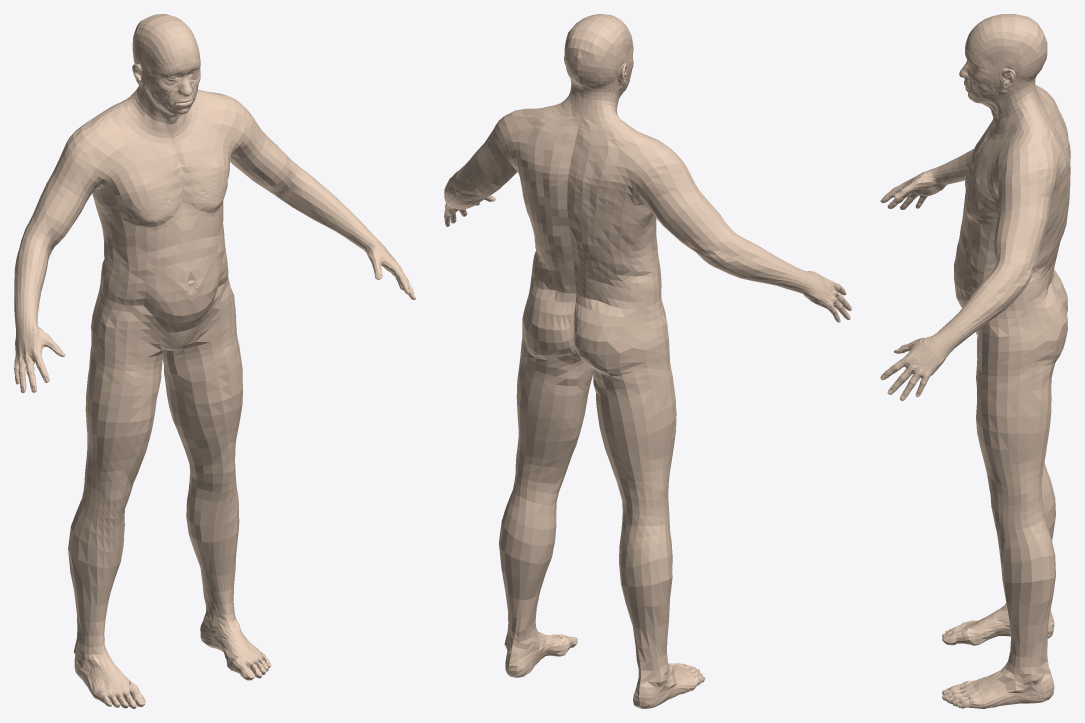
Rendered from male-older-max-strong.glb.
The picture shows the model from 3 angles, left to right: view 1: azimuth 30°, elevation 25°; view 2: azimuth 150°, elevation 25°; view 3: azimuth 270°, elevation 25°; orthographic projection.
Parts seen in each view (by area): view 1: world; view 2: world; view 3: world.
Boxes of the visible parts, x1=… form: world: x1=14, y1=14, x2=415, y2=708; world: x1=444, y1=14, x2=851, y2=708; world: x1=880, y1=14, x2=1070, y2=708.
Size of the model in its own units: 1.24 by 1.97 by 0.5204.
